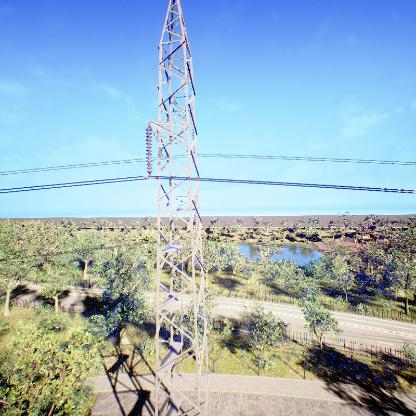tower: (137, 0, 218, 416)
